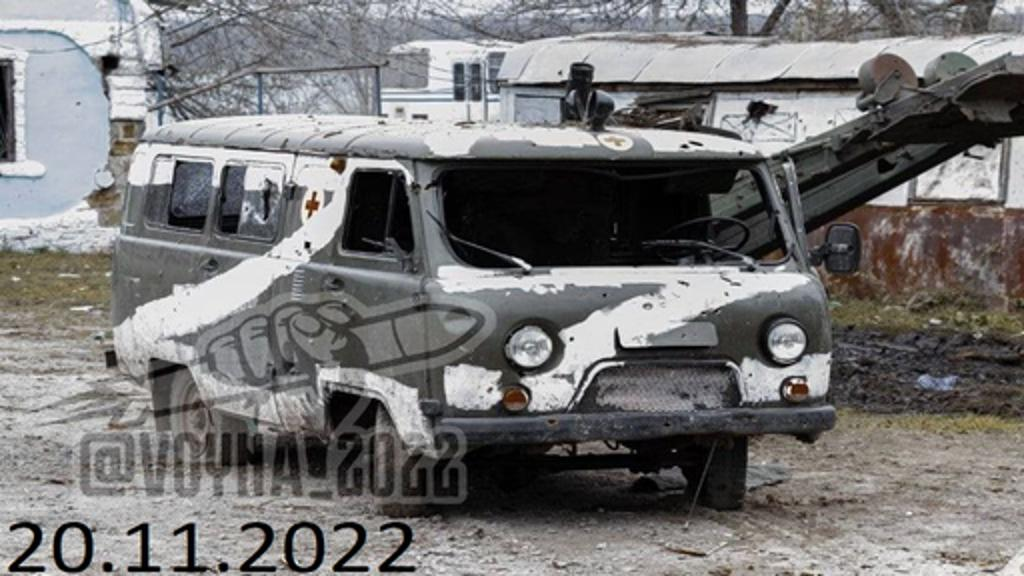CAR: (108, 104, 836, 526)
